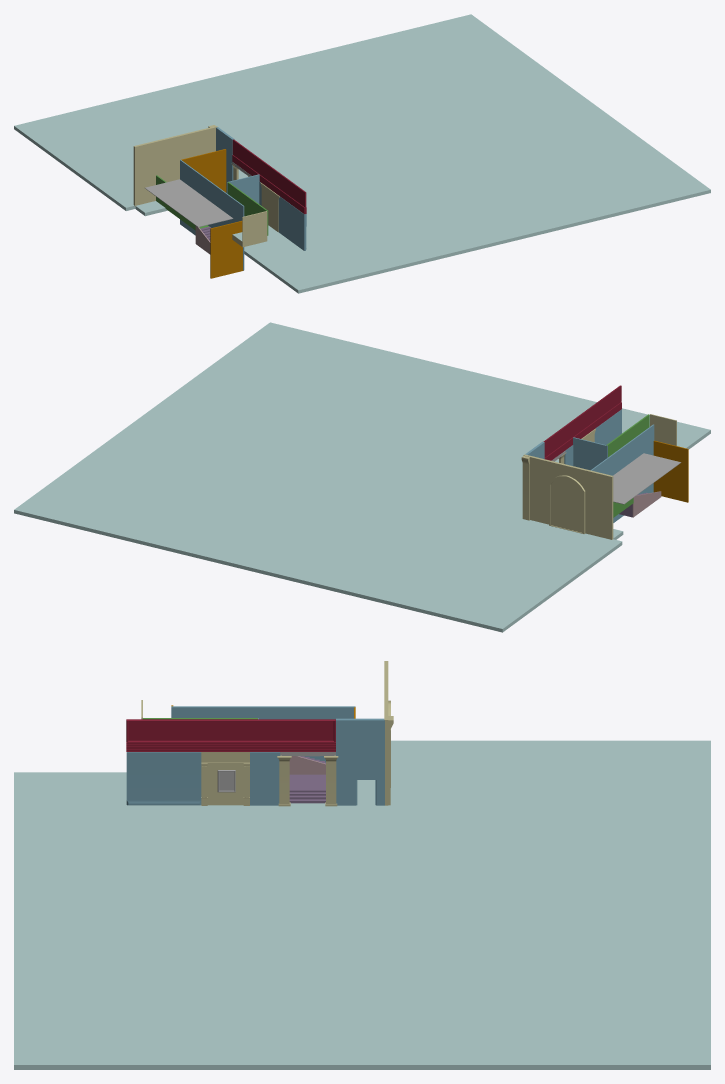
File: Staircase teleport.fbx
3 views of the same model, one above another, from view 1: azimuth 30°, elevation 25°; view 2: azimuth 150°, elevation 25°; view 3: azimuth 270°, elevation 25° (orthographic). The views are drawn at different scales.
Visible parts, largest first — view 1: teleport_staircase; view 2: teleport_staircase; view 3: teleport_staircase.
Boxes of the visible parts, box(x1,y1,x2,y2) form: teleport_staircase: box(14, 14, 710, 293); teleport_staircase: box(14, 322, 710, 632); teleport_staircase: box(14, 661, 710, 1069).
Size of the model in its own units: 9010 by 1483 by 8180.
